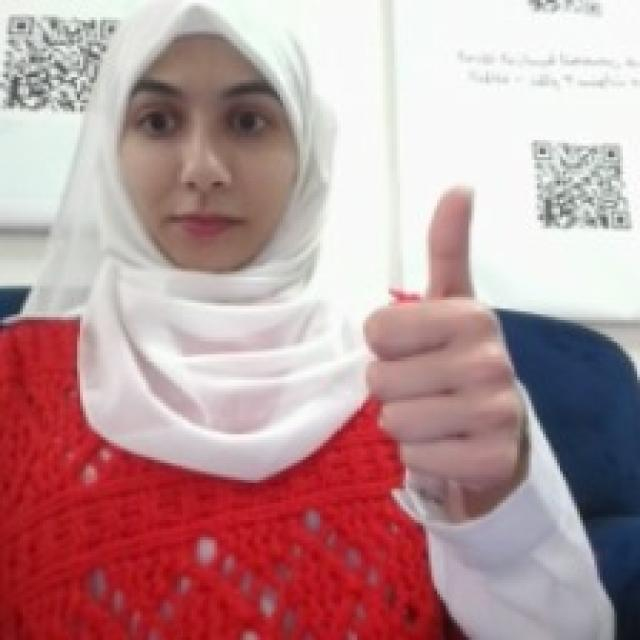fine: (348, 171, 528, 506)
